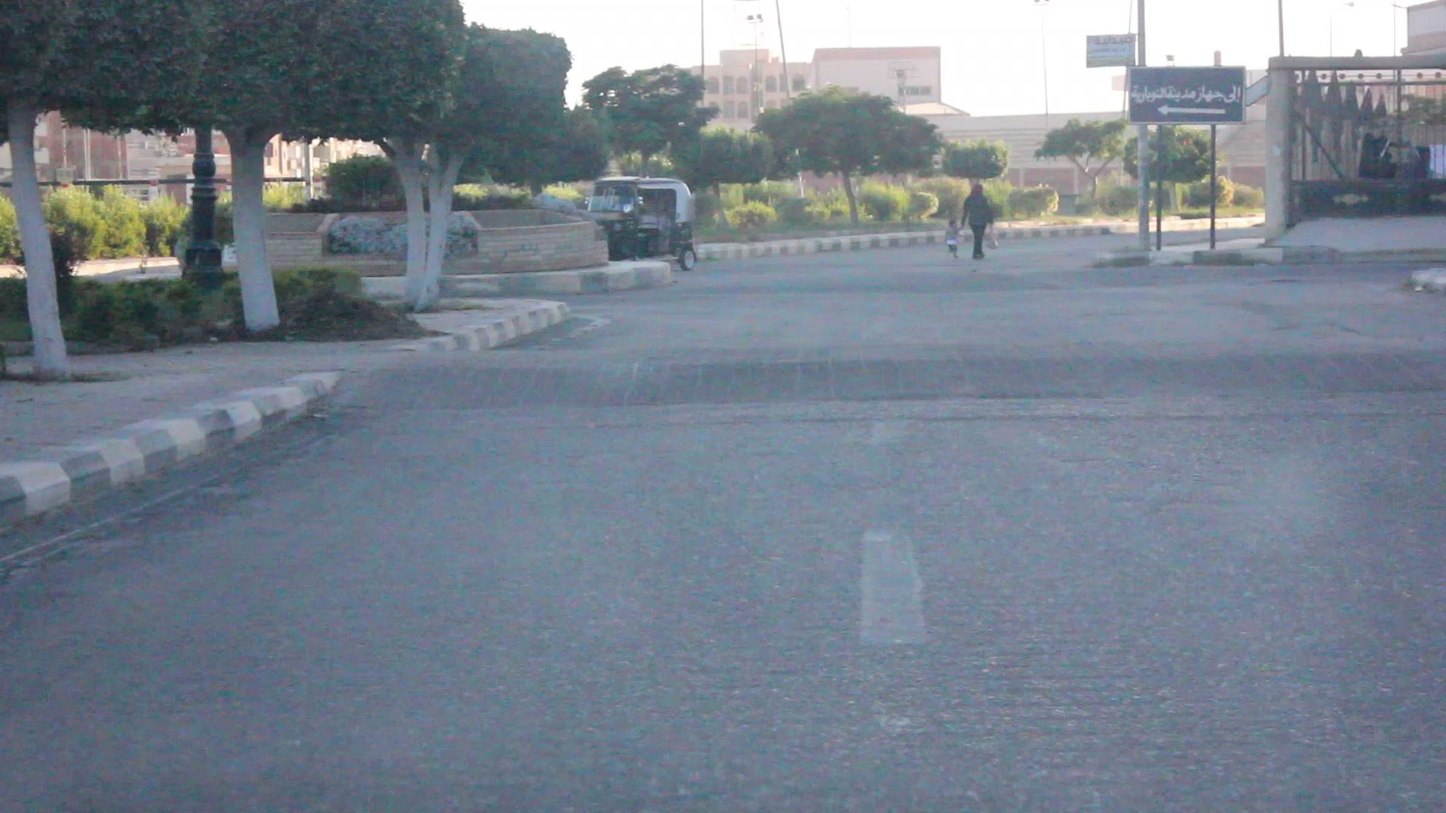Bump: (397, 348, 1446, 410)
